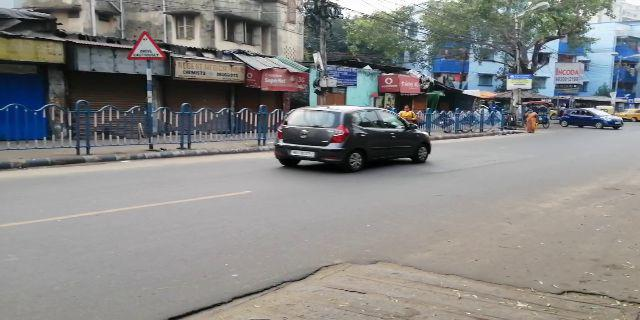Car: (272, 105, 436, 171), (562, 106, 621, 132)
